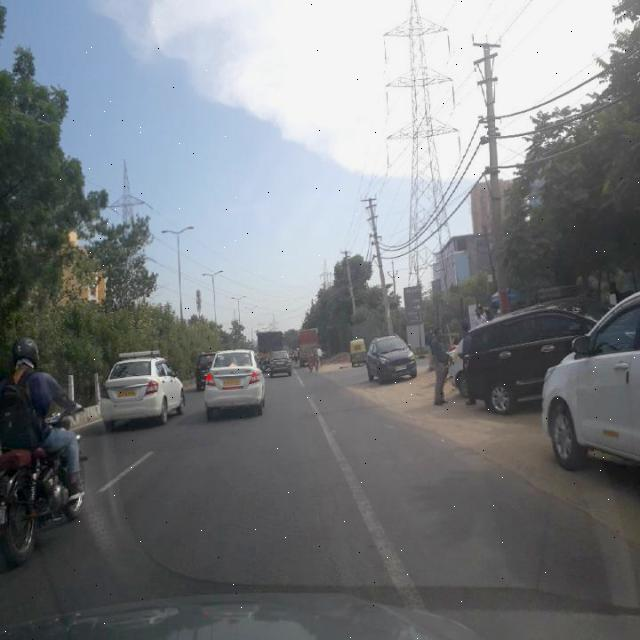D20: (124, 438, 383, 596)
D44: (337, 444, 420, 599)
